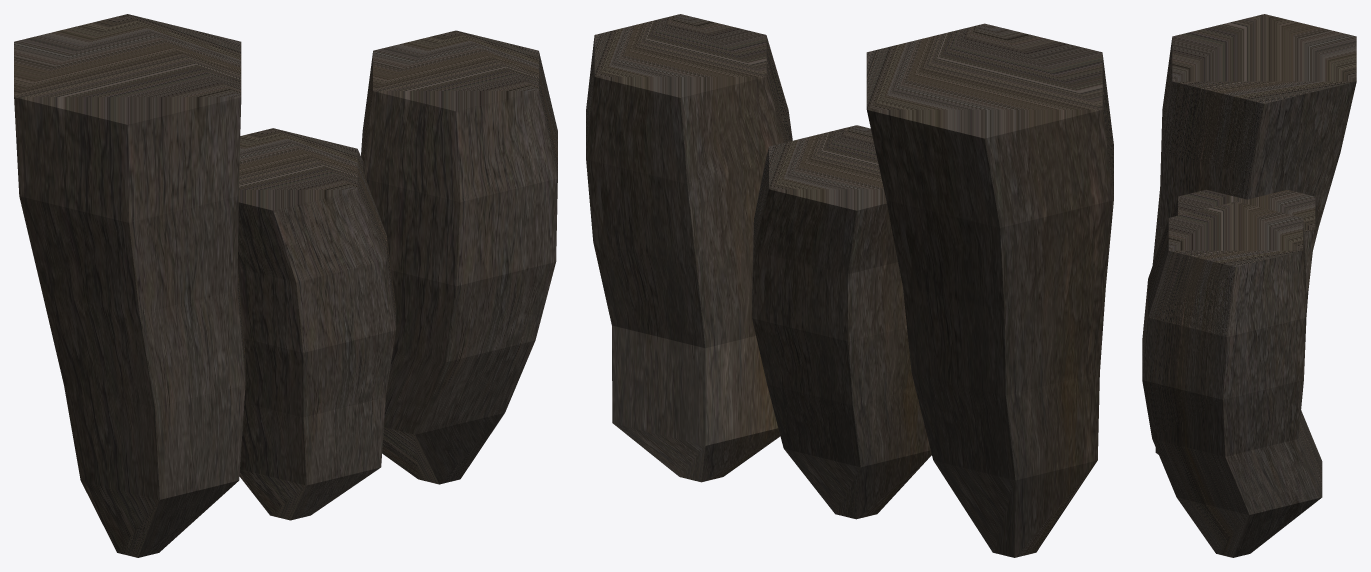
The model's file is pine_tree_01_hlod.glb.
3 renders of one model, left to right at view 1: azimuth 30°, elevation 25°; view 2: azimuth 150°, elevation 25°; view 3: azimuth 270°, elevation 25°, orthographic. The views are drawn at different scales.
Parts seen in each view (by area): view 1: pine_tree_01_a_LOD0, pine_tree_01_c_LOD0, pine_tree_01_b_LOD0; view 2: pine_tree_01_a_LOD0, pine_tree_01_c_LOD0, pine_tree_01_b_LOD0; view 3: pine_tree_01_c_LOD0, pine_tree_01_a_LOD0, pine_tree_01_b_LOD0.
Boxes of the visible parts, x1=… form: pine_tree_01_a_LOD0: x1=14, y1=14, x2=245, y2=557; pine_tree_01_c_LOD0: x1=361, y1=30, x2=557, y2=484; pine_tree_01_b_LOD0: x1=237, y1=128, x2=395, y2=520; pine_tree_01_a_LOD0: x1=866, y1=23, x2=1113, y2=557; pine_tree_01_c_LOD0: x1=586, y1=14, x2=792, y2=482; pine_tree_01_b_LOD0: x1=752, y1=125, x2=931, y2=519; pine_tree_01_c_LOD0: x1=1142, y1=201, x2=1322, y2=557; pine_tree_01_a_LOD0: x1=1152, y1=14, x2=1356, y2=264; pine_tree_01_b_LOD0: x1=1155, y1=189, x2=1315, y2=454.
Bounding box in the file's own units: 24.19 × 20.39 × 10.57.
Materials: 1 (1 with a texture image).
